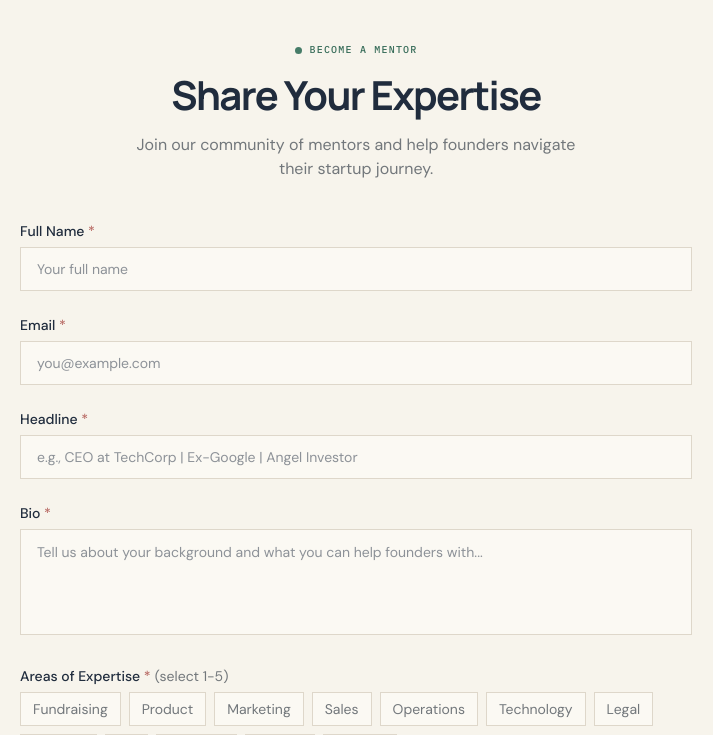
it: MentorApplyPage › shows error message for duplicate email
Fill in required fields
Type "Jane Doe" into the field labelled "Full Name *".
click(356, 269); type("Jane Doe")  # box 20,247 -> 692,291
Type "jane@example.com" into the field labelled "Email *".
click(356, 363); type("jane@example.com")  # box 20,341 -> 692,385
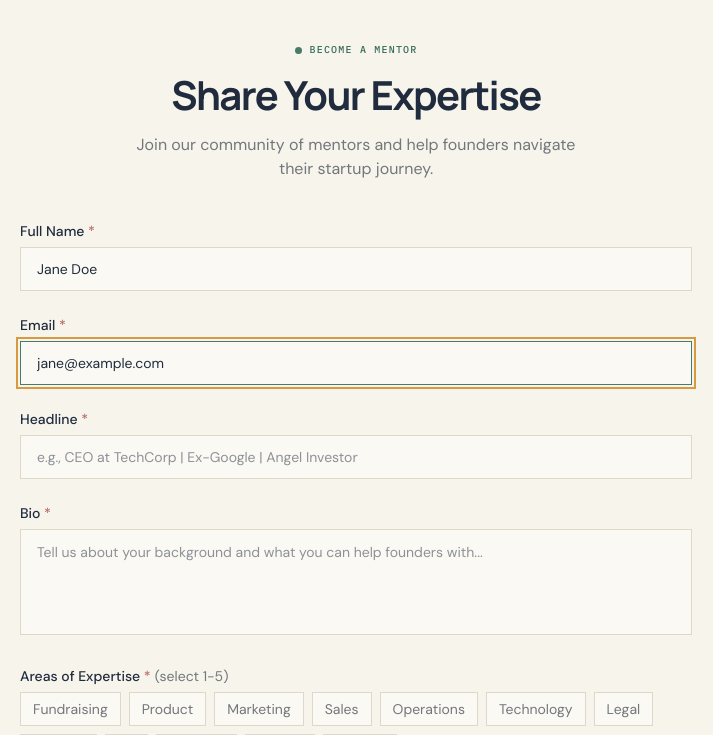
Type "CEO at TechCorp" into the field labelled "Headline *".
click(356, 457); type("CEO at TechCorp")  # box 20,435 -> 692,479
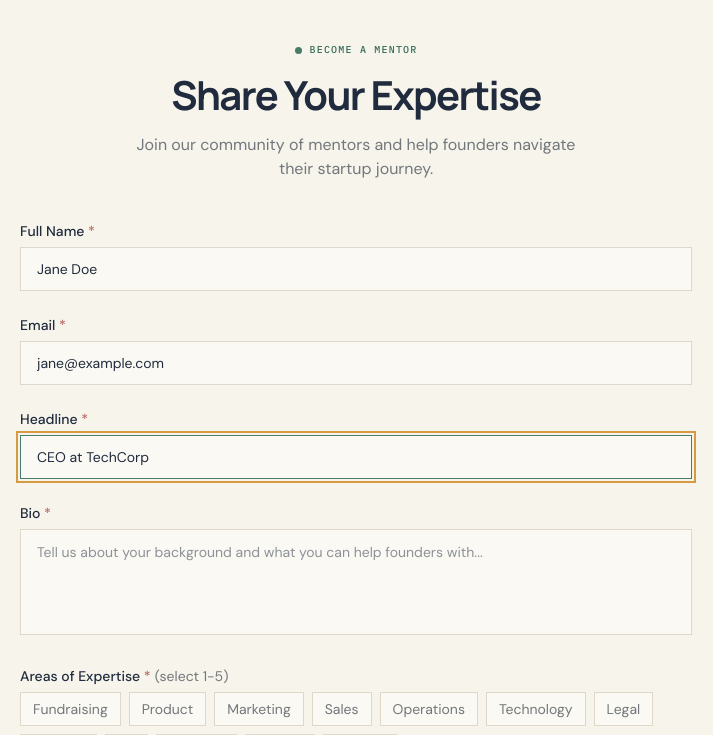
Type "20 years experience" into the text box labelled "Bio *".
click(356, 582); type("20 years experience")  # box 20,529 -> 692,635
(page scrolled)
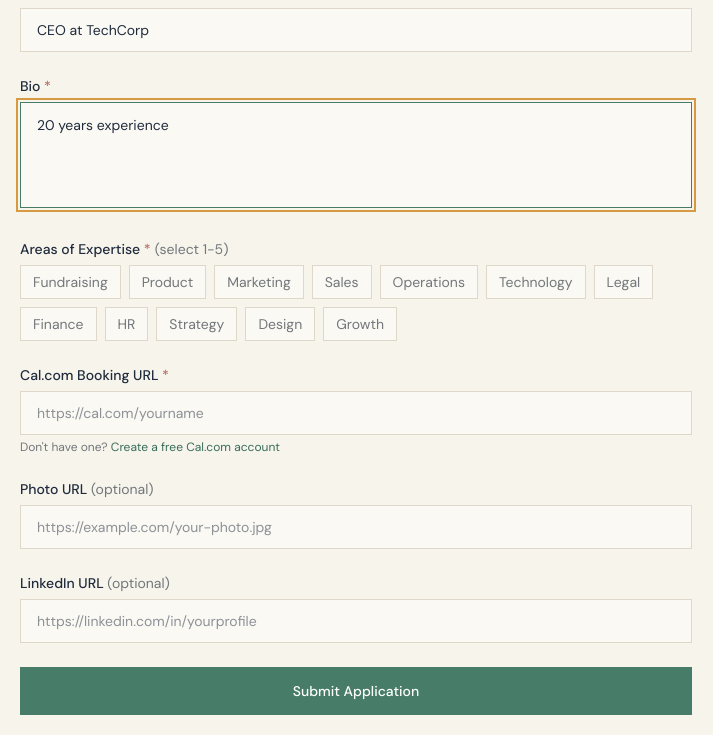
Type "https://cal.com/janedoe" into the field labelled "Cal.com Booking URL *".
click(356, 413); type("https://cal.com/janedoe")  # box 20,391 -> 692,435
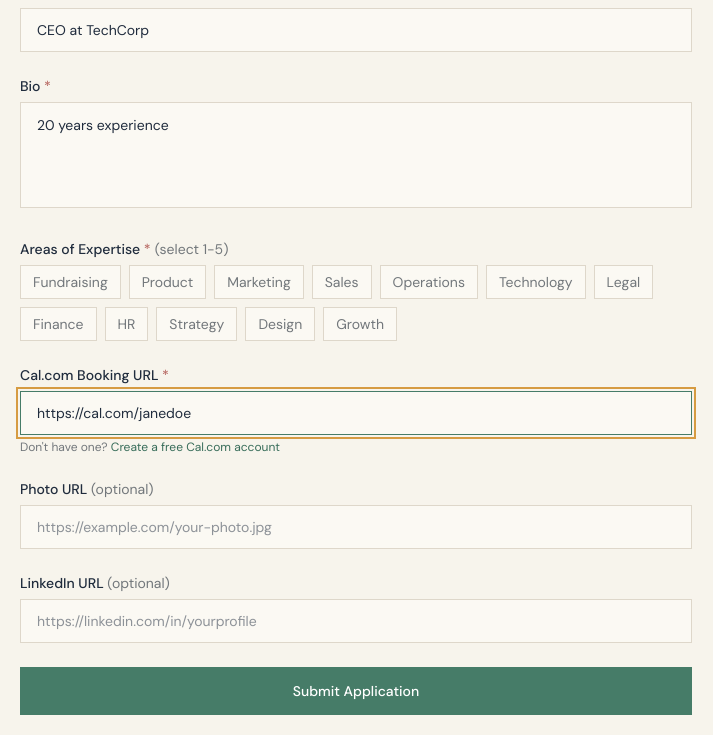
Click the button "Fundraising".
click(70, 282)  # box 20,265 -> 121,299
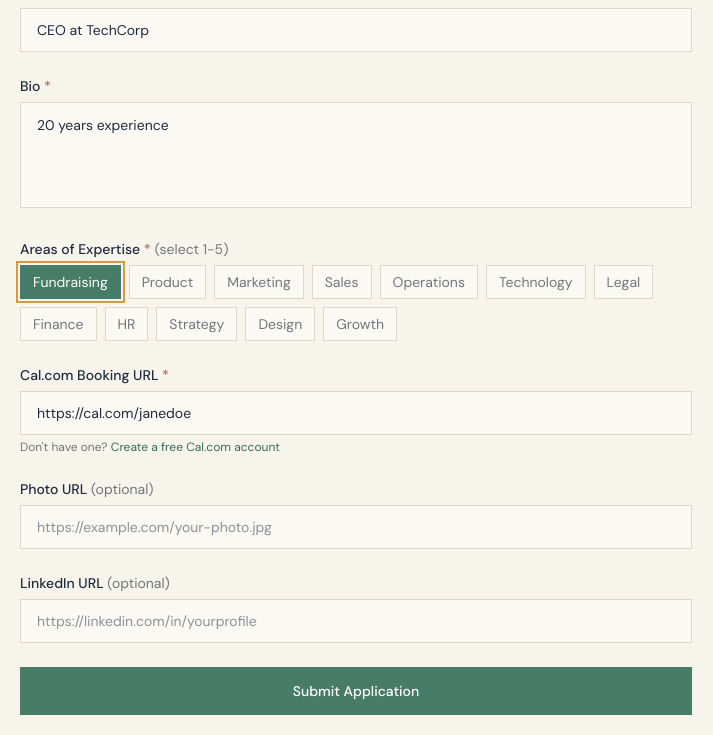
Click the button "Submit Application".
click(356, 691)  # box 20,667 -> 692,715
(page scrolled)
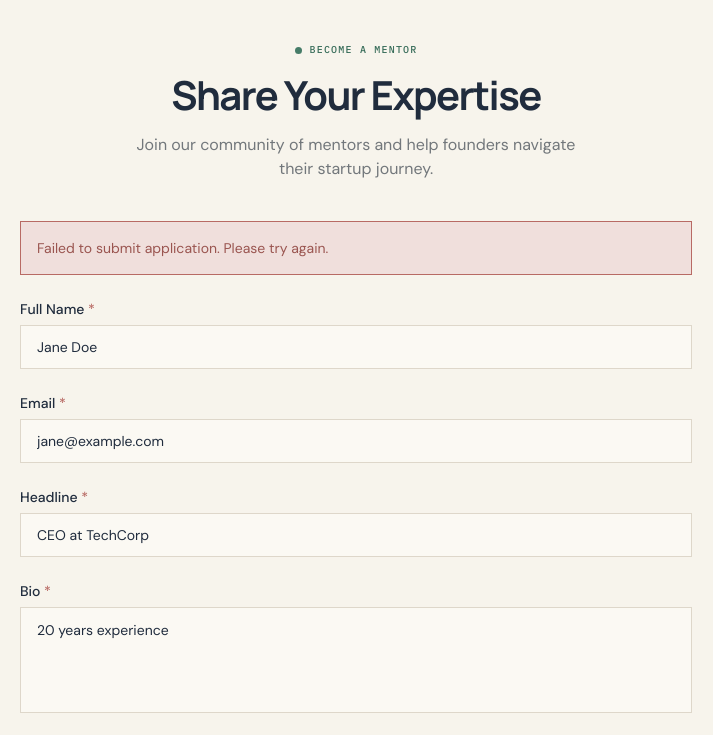
Check: the text "Failed to submit application. Please try again." is shown, box 20,221 -> 692,275
